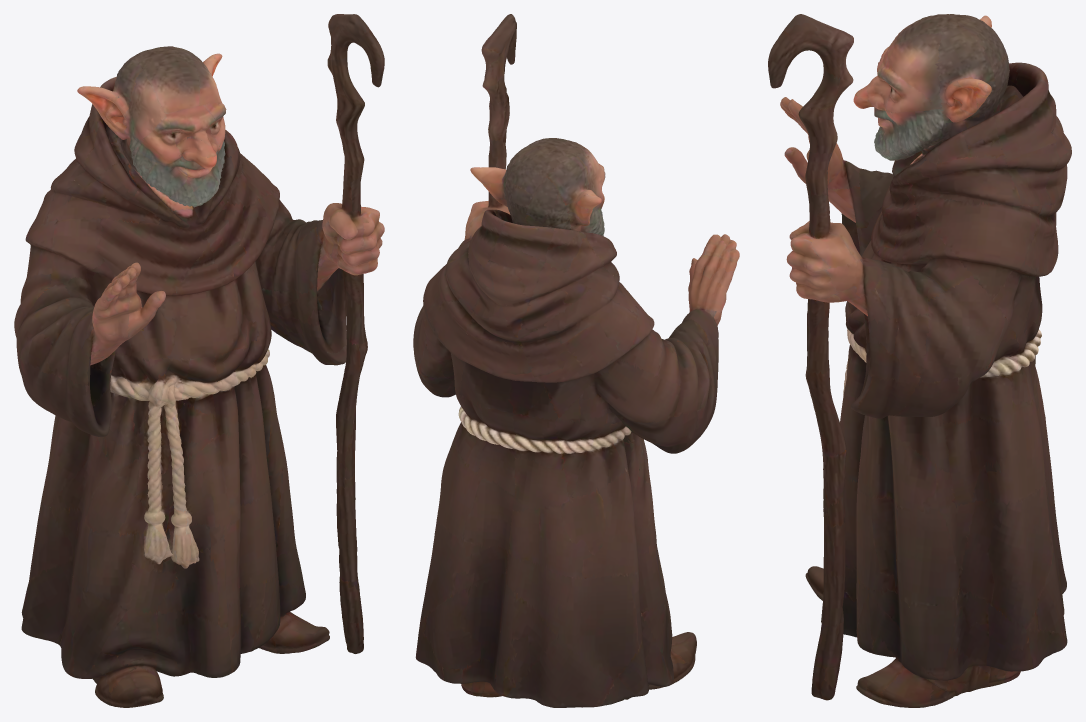
Rendered from gnomemonk.glb.
3 views of the same model, side by side, from view 1: azimuth 30°, elevation 25°; view 2: azimuth 150°, elevation 25°; view 3: azimuth 270°, elevation 25° (orthographic). The views are drawn at different scales.
Bounding box in the file's own units: 0.9454 × 1.9 × 0.7584.
1 material, 1 textured.
